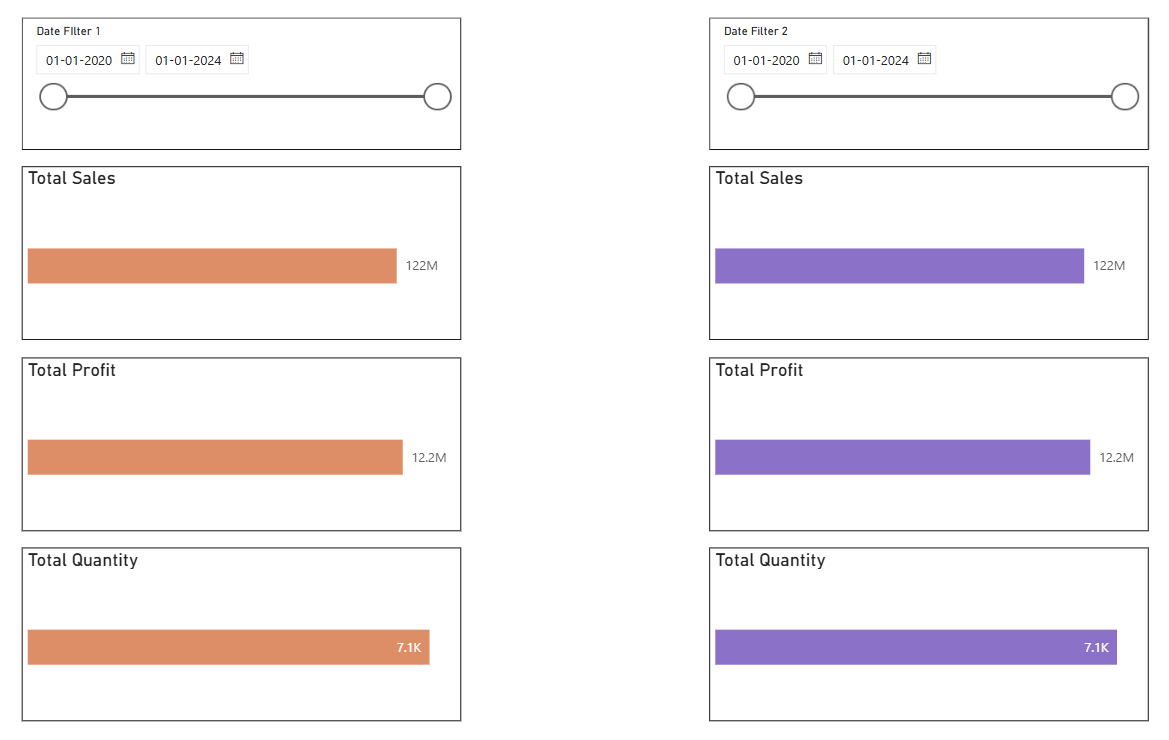

What the dashboard file says about the page in this screenshot:
{"tool":"powerbi","page":{"name":"Edit Interactions","canvas":[1280,720],"ordinal":3},"visuals":[{"type":"slicer","fields":{"Values":["Fact Table.Date (dd/mm/yyyy)"]},"box":[114.9,25.7,408.4,123.5],"z":0},{"type":"slicer","fields":{"Values":["Fact Table.Date (dd/mm/yyyy)"]},"box":[754.5,25.7,408.4,123.5],"z":1000},{"type":"barChart","title":"Total Sales","fields":{"Y":["Sum(Fact Table.Net Sales)"]},"box":[114.9,163.9,408.4,161.4],"z":2000},{"type":"barChart","title":"Total Profit","fields":{"Y":["Sum(Fact Table.Profit)"]},"box":[114.9,342.4,408.4,161.4],"z":3000},{"type":"barChart","title":"Total Quantity","fields":{"Y":["Sum(Fact Table.Units Sold)"]},"box":[114.9,518.5,408.4,161.4],"z":4000},{"type":"barChart","title":"Total Sales","fields":{"Y":["Sum(Fact Table.Net Sales)"]},"box":[754.5,163.9,408.4,161.4],"z":5000},{"type":"barChart","title":"Total Profit","fields":{"Y":["Sum(Fact Table.Profit)"]},"box":[754.5,342.4,408.4,161.4],"z":6000},{"type":"barChart","title":"Total Quantity","fields":{"Y":["Sum(Fact Table.Units Sold)"]},"box":[754.5,518.5,408.4,161.4],"z":7000}]}

Visuals, with their boxes on the page's 1280x720 design canvas (x1, y1, x2, y2). These are canvas units, not pixel positions in the 1169x740 screenshot, which may show the page scaled, cropped or inside an application window:
slicer - Fact Table.Date (dd/mm/yyyy): 115 26 523 149
slicer - Fact Table.Date (dd/mm/yyyy): 754 26 1163 149
"Total Sales" barChart: 115 164 523 325
"Total Profit" barChart: 115 342 523 504
"Total Quantity" barChart: 115 518 523 680
"Total Sales" barChart: 754 164 1163 325
"Total Profit" barChart: 754 342 1163 504
"Total Quantity" barChart: 754 518 1163 680
